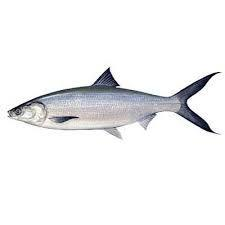Bangus: (8, 65, 222, 142)
